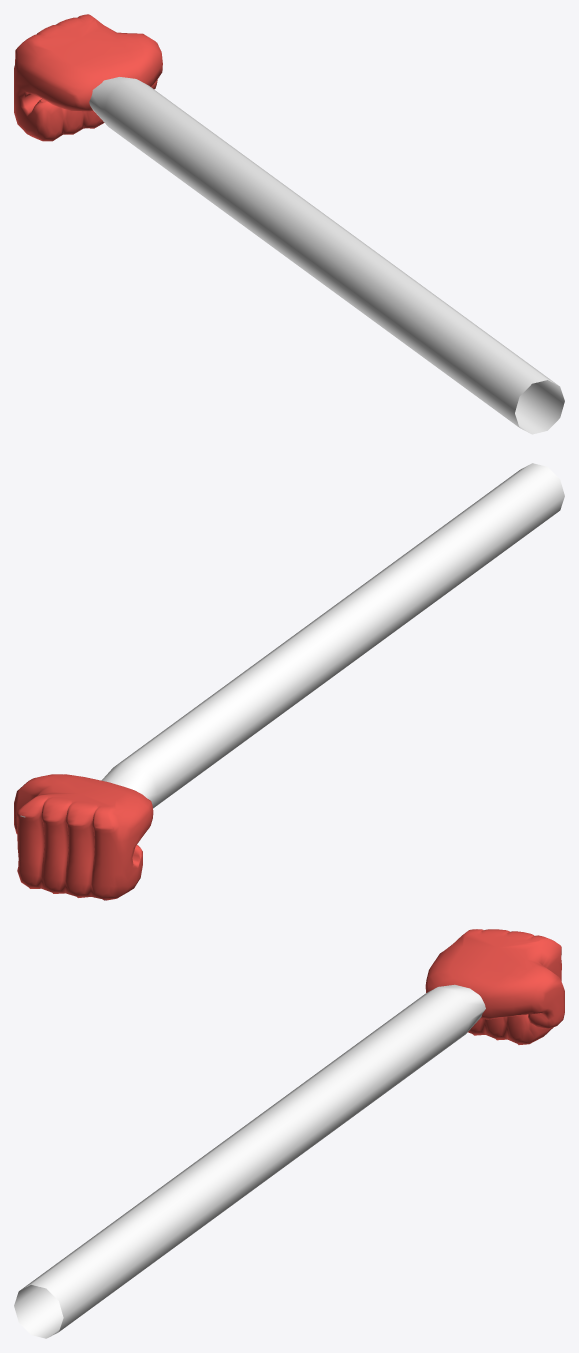
File: punpun4.FBX
The picture shows the model from 3 angles, top to bottom: view 1: azimuth 30°, elevation 25°; view 2: azimuth 150°, elevation 25°; view 3: azimuth 330°, elevation 25°; orthographic projection.
Visible parts, largest first — view 1: Box007; view 2: Box007; view 3: Box007.
Boxes of the visible parts, box(x1,y1,x2,y2) form: Box007: box(14, 14, 564, 434); Box007: box(14, 463, 564, 900); Box007: box(14, 929, 564, 1338).
Size of the model in its own units: 80.73 by 56.75 by 547.
1 material, 1 textured.
